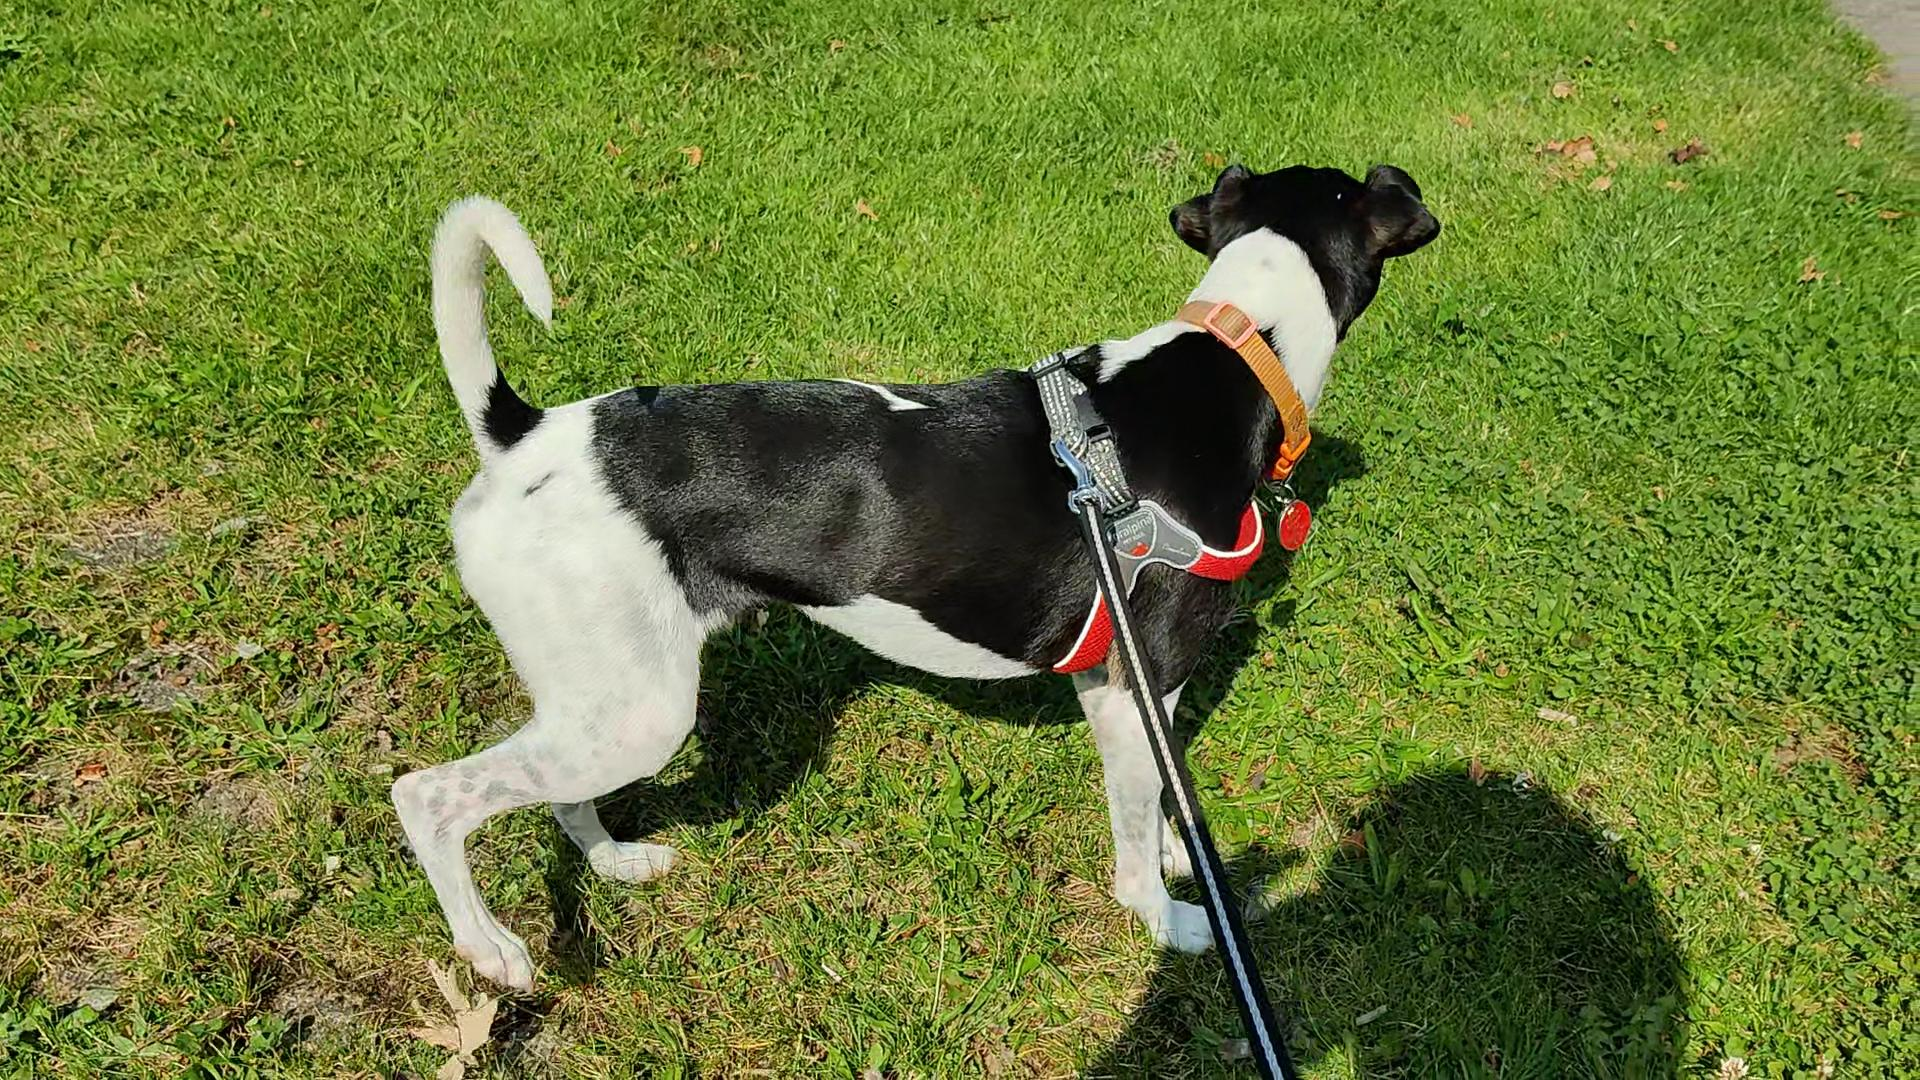Dog: (386, 157, 1443, 993)
